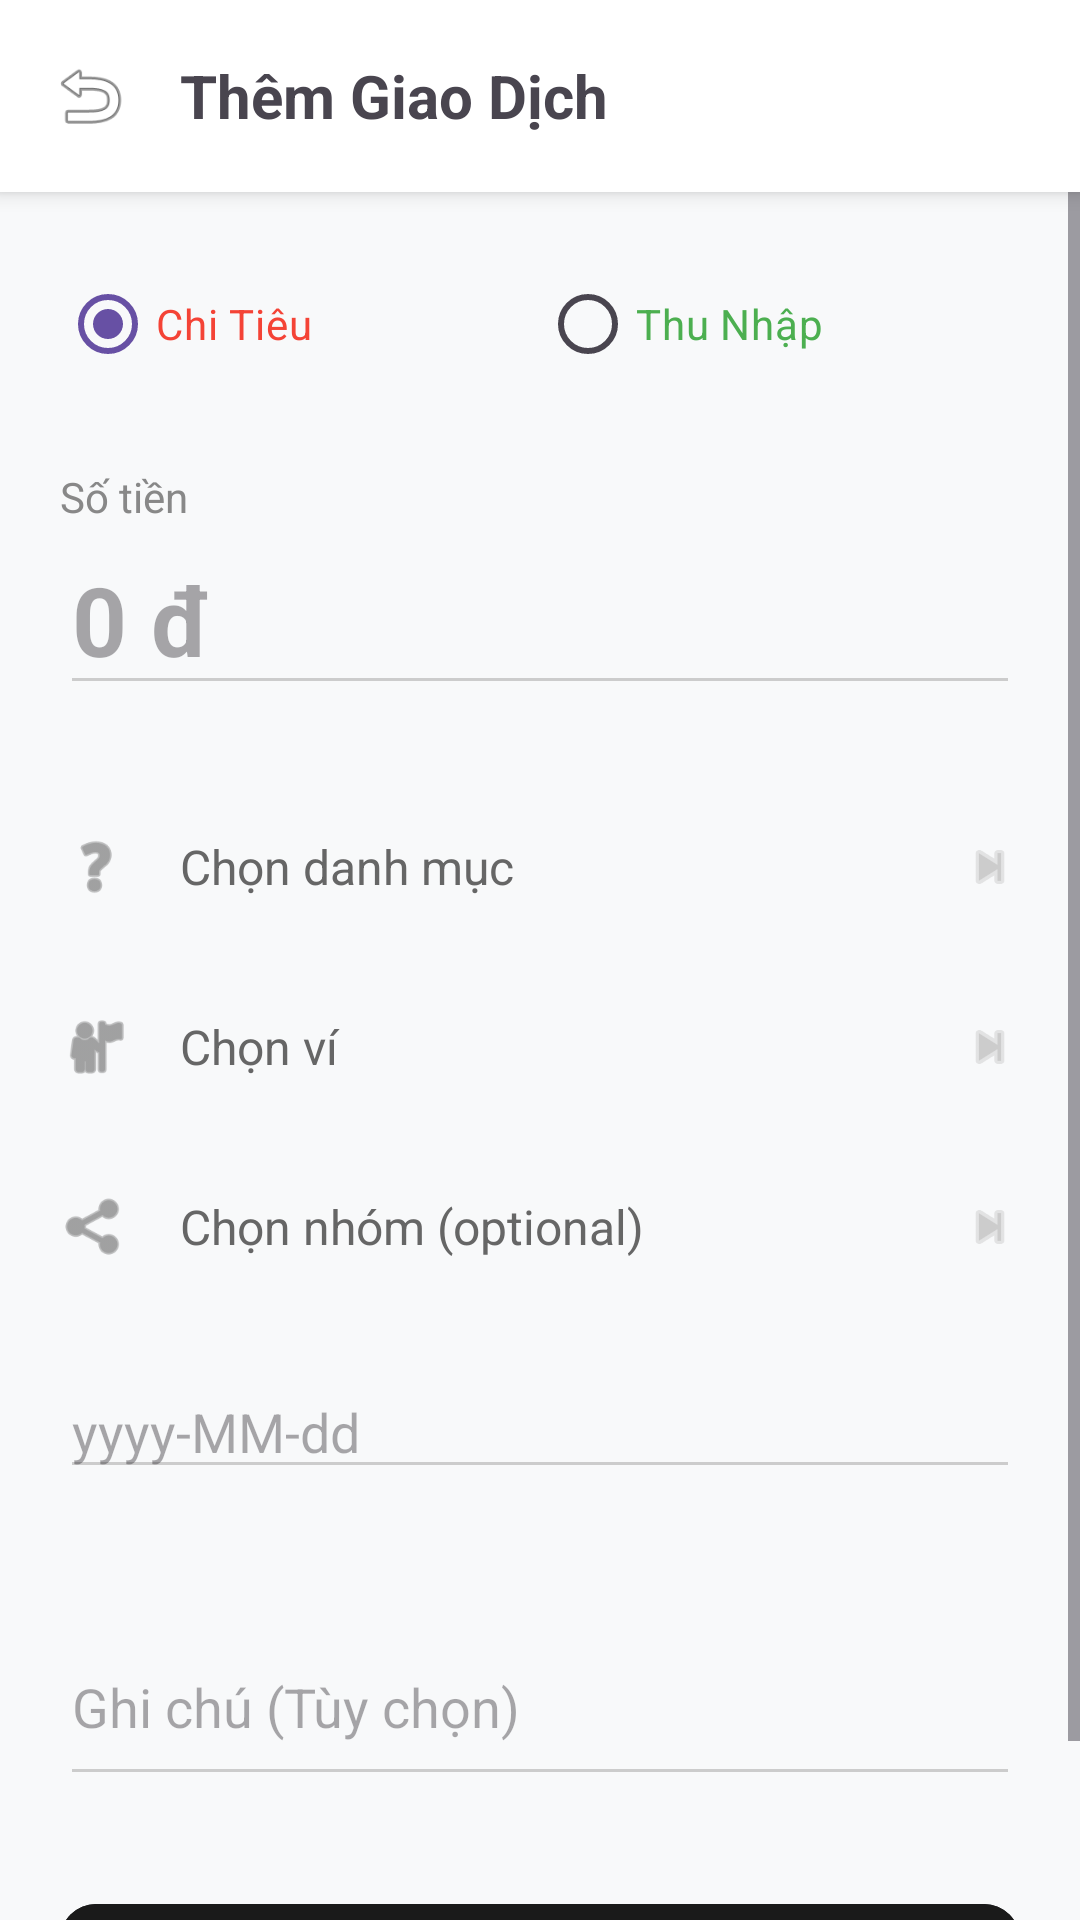

Named icons in this screenshot (1080 × 1920) and their bounding boxes, (x1, y1, x2, y2):
help: (81, 841, 112, 893)
myplaces: (70, 1020, 124, 1074)
next: (978, 853, 1002, 881), (978, 1033, 1002, 1061), (978, 1213, 1002, 1241)
revert: (61, 69, 122, 124)
share: (65, 1199, 119, 1255)
